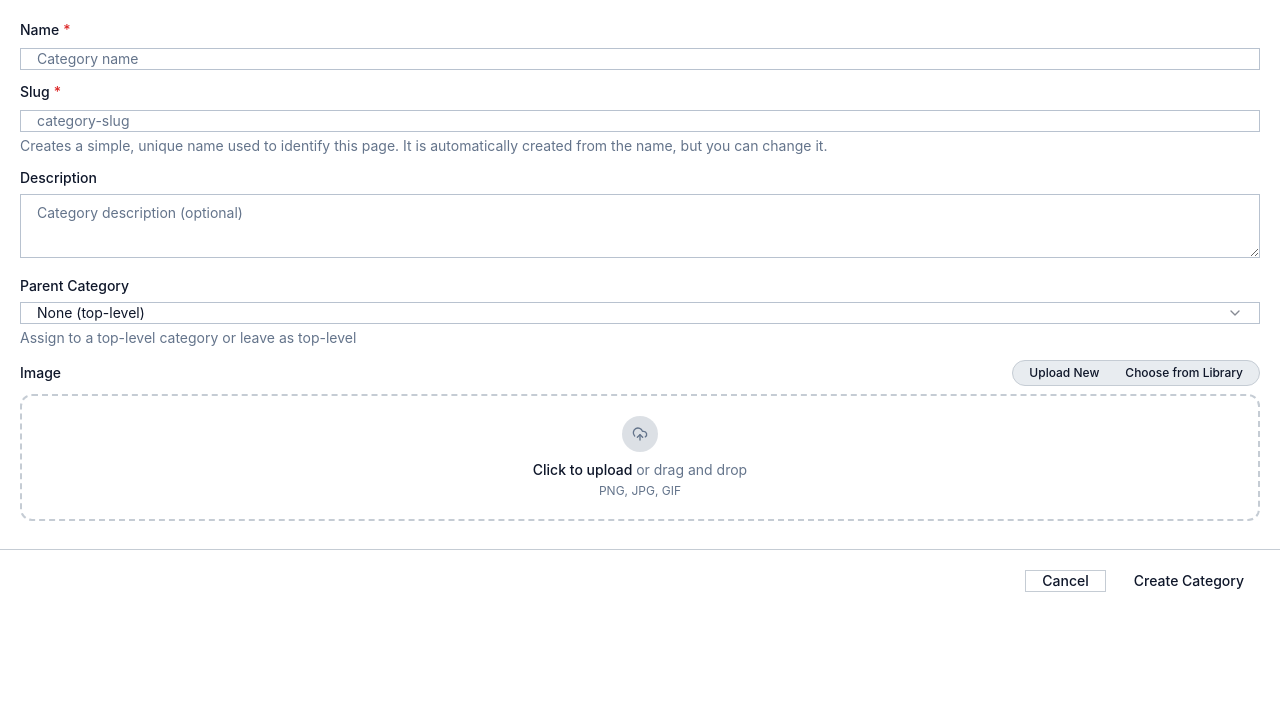
Test: CategoryForm parent picker (searchable) › offers only top-level categories, alphabetically, under the None option
Click the button named "Parent Category". click: (91, 312)
box: [20,302,1260,324]
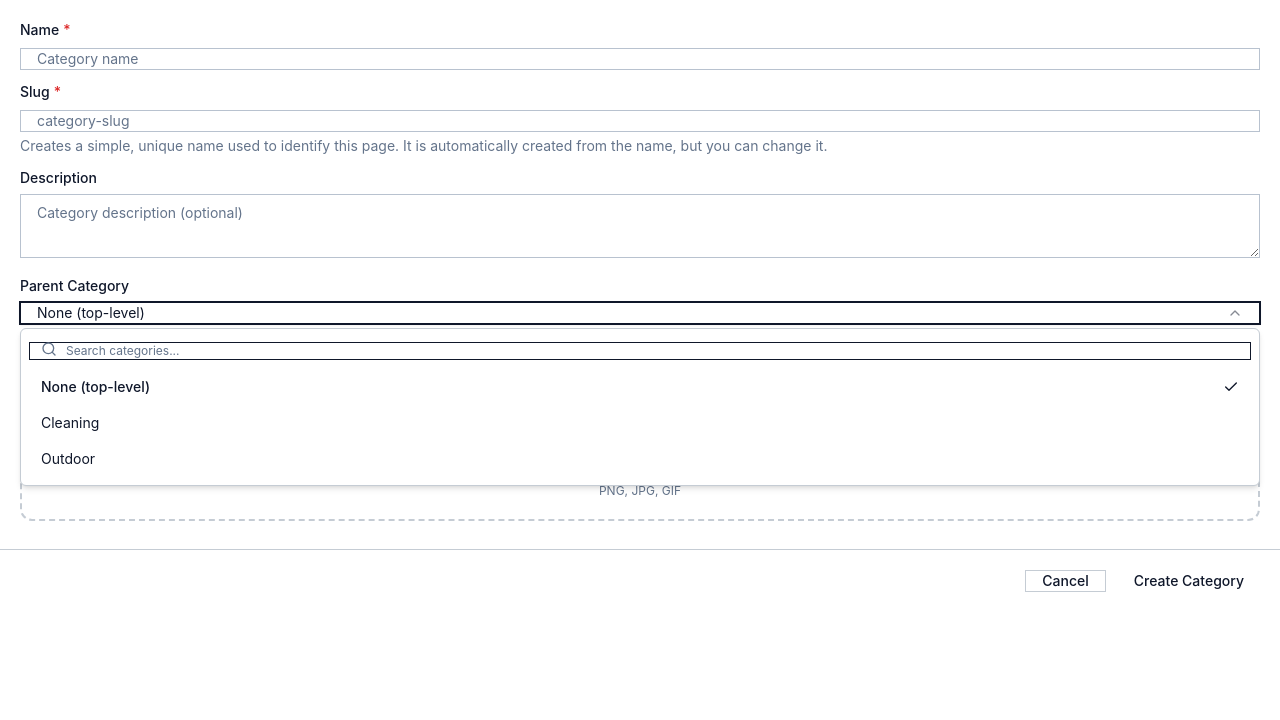
Now the options read "None (top-level)", "Cleaning", "Outdoor", in this order, box [41,378,1239,395]; [41,414,99,431]; [41,450,95,467]
